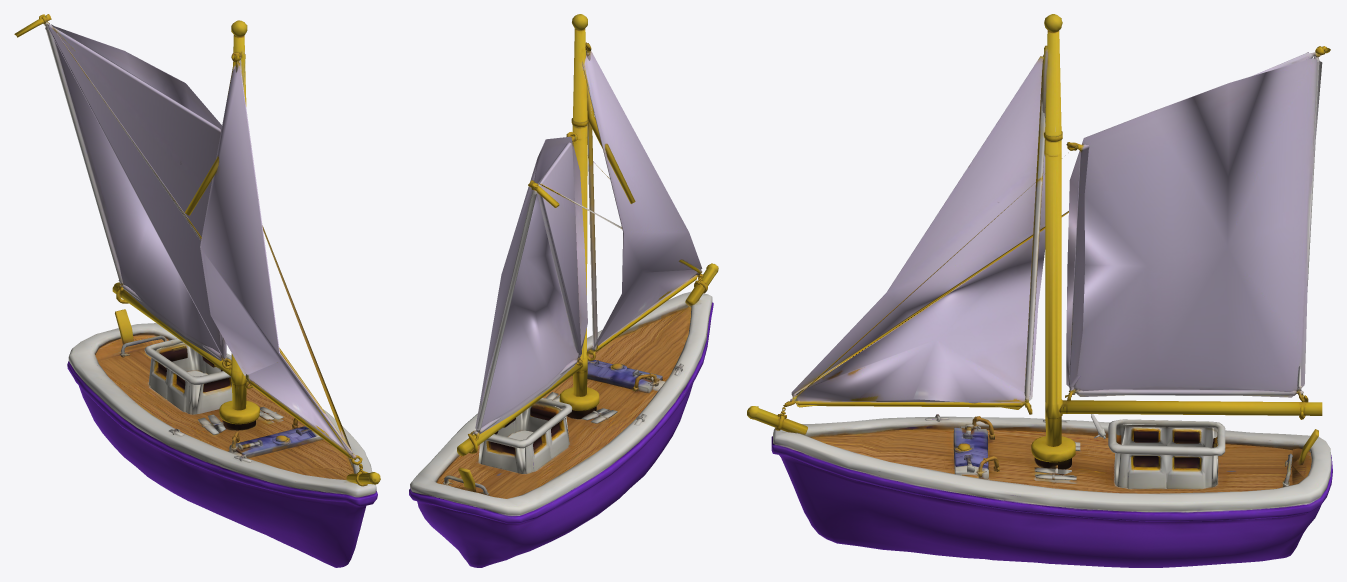
Rendered from r33-sailboat.glb.
3 renders of one model, left to right at view 1: azimuth 30°, elevation 25°; view 2: azimuth 150°, elevation 25°; view 3: azimuth 270°, elevation 25°, orthographic. The views are drawn at different scales.
Parts seen in each view (by area): view 1: tripo_node_b41c7c96-a60f-47ca-b26f-99501c5551c6; view 2: tripo_node_b41c7c96-a60f-47ca-b26f-99501c5551c6; view 3: tripo_node_b41c7c96-a60f-47ca-b26f-99501c5551c6.
Boxes of the visible parts, x1,y1,x2,y2 form: tripo_node_b41c7c96-a60f-47ca-b26f-99501c5551c6: [14, 14, 380, 567]; tripo_node_b41c7c96-a60f-47ca-b26f-99501c5551c6: [409, 14, 718, 567]; tripo_node_b41c7c96-a60f-47ca-b26f-99501c5551c6: [747, 14, 1332, 567].
Size of the model in its own units: 0.3848 by 0.998 by 0.9785.
Materials: 1 (1 with a texture image).
